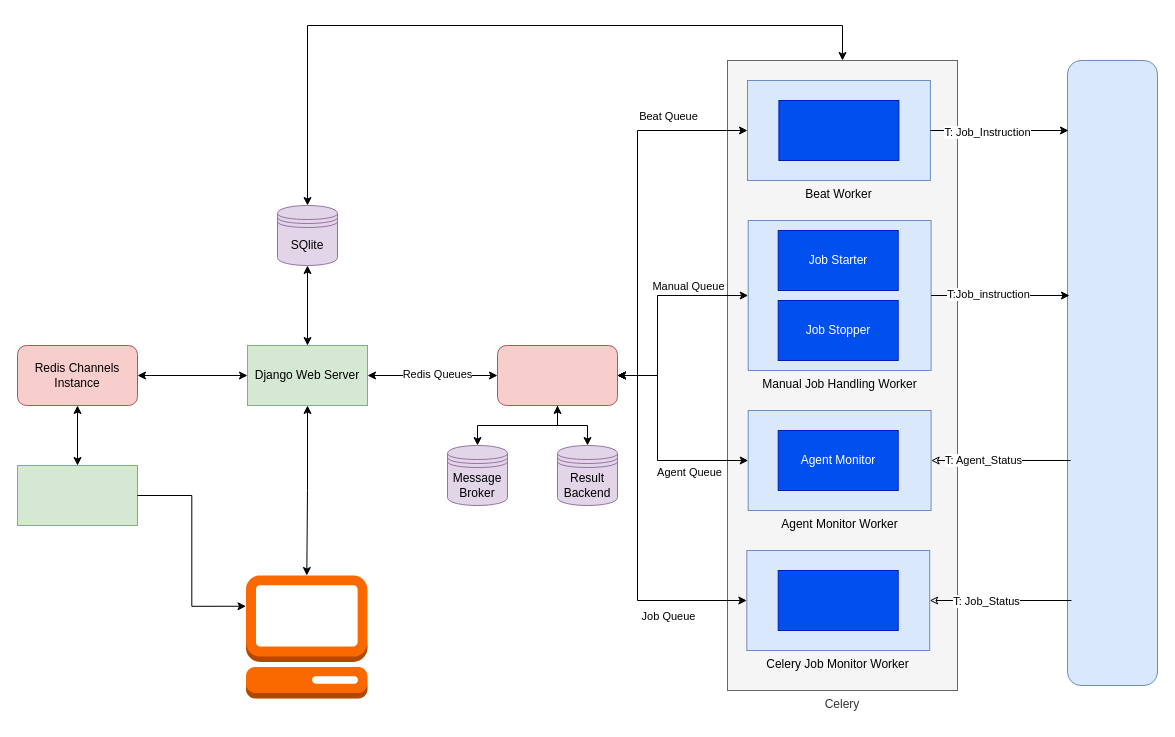
Some shapes in this 1175 by 737 pixel diagram are drawn without their labels. Each missing label, with the centre of its shape:
"Client" goes at [306,636].
"Django Channel Consumer" goes at [77,495].
"Job Monitor" goes at [837,600].
"Job Stop Scheduler" goes at [838,130].
"Kafka" goes at [1112,373].
"Redis Celery Instance" goes at [557,375].
